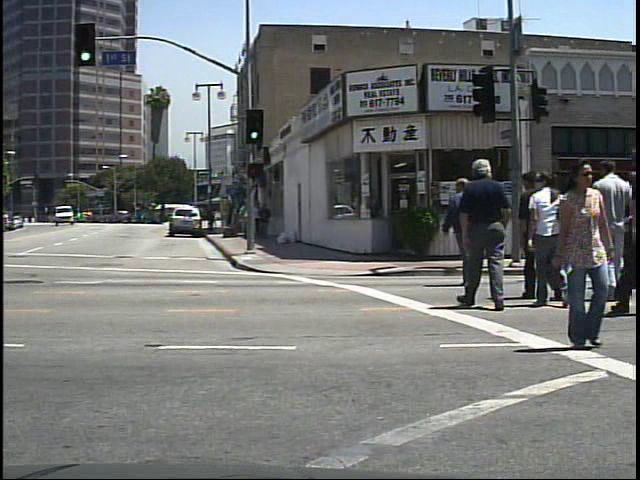person: (547, 156, 624, 353), (456, 150, 516, 317), (524, 164, 577, 314)
